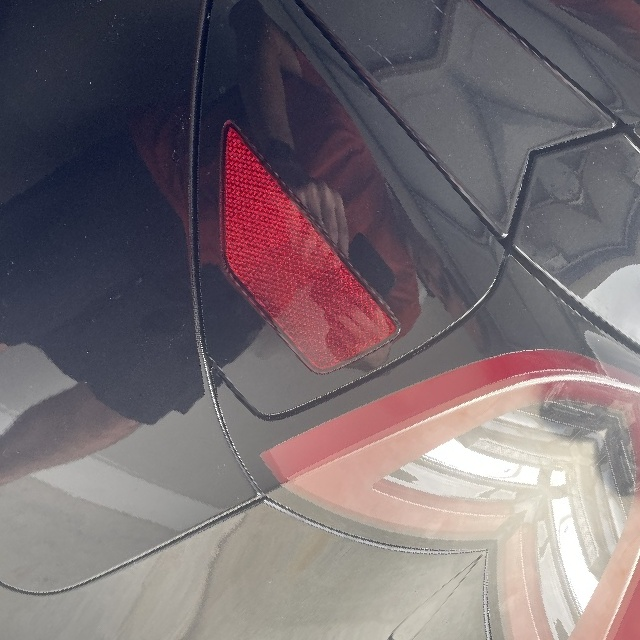reflector: (140, 114, 425, 398)
